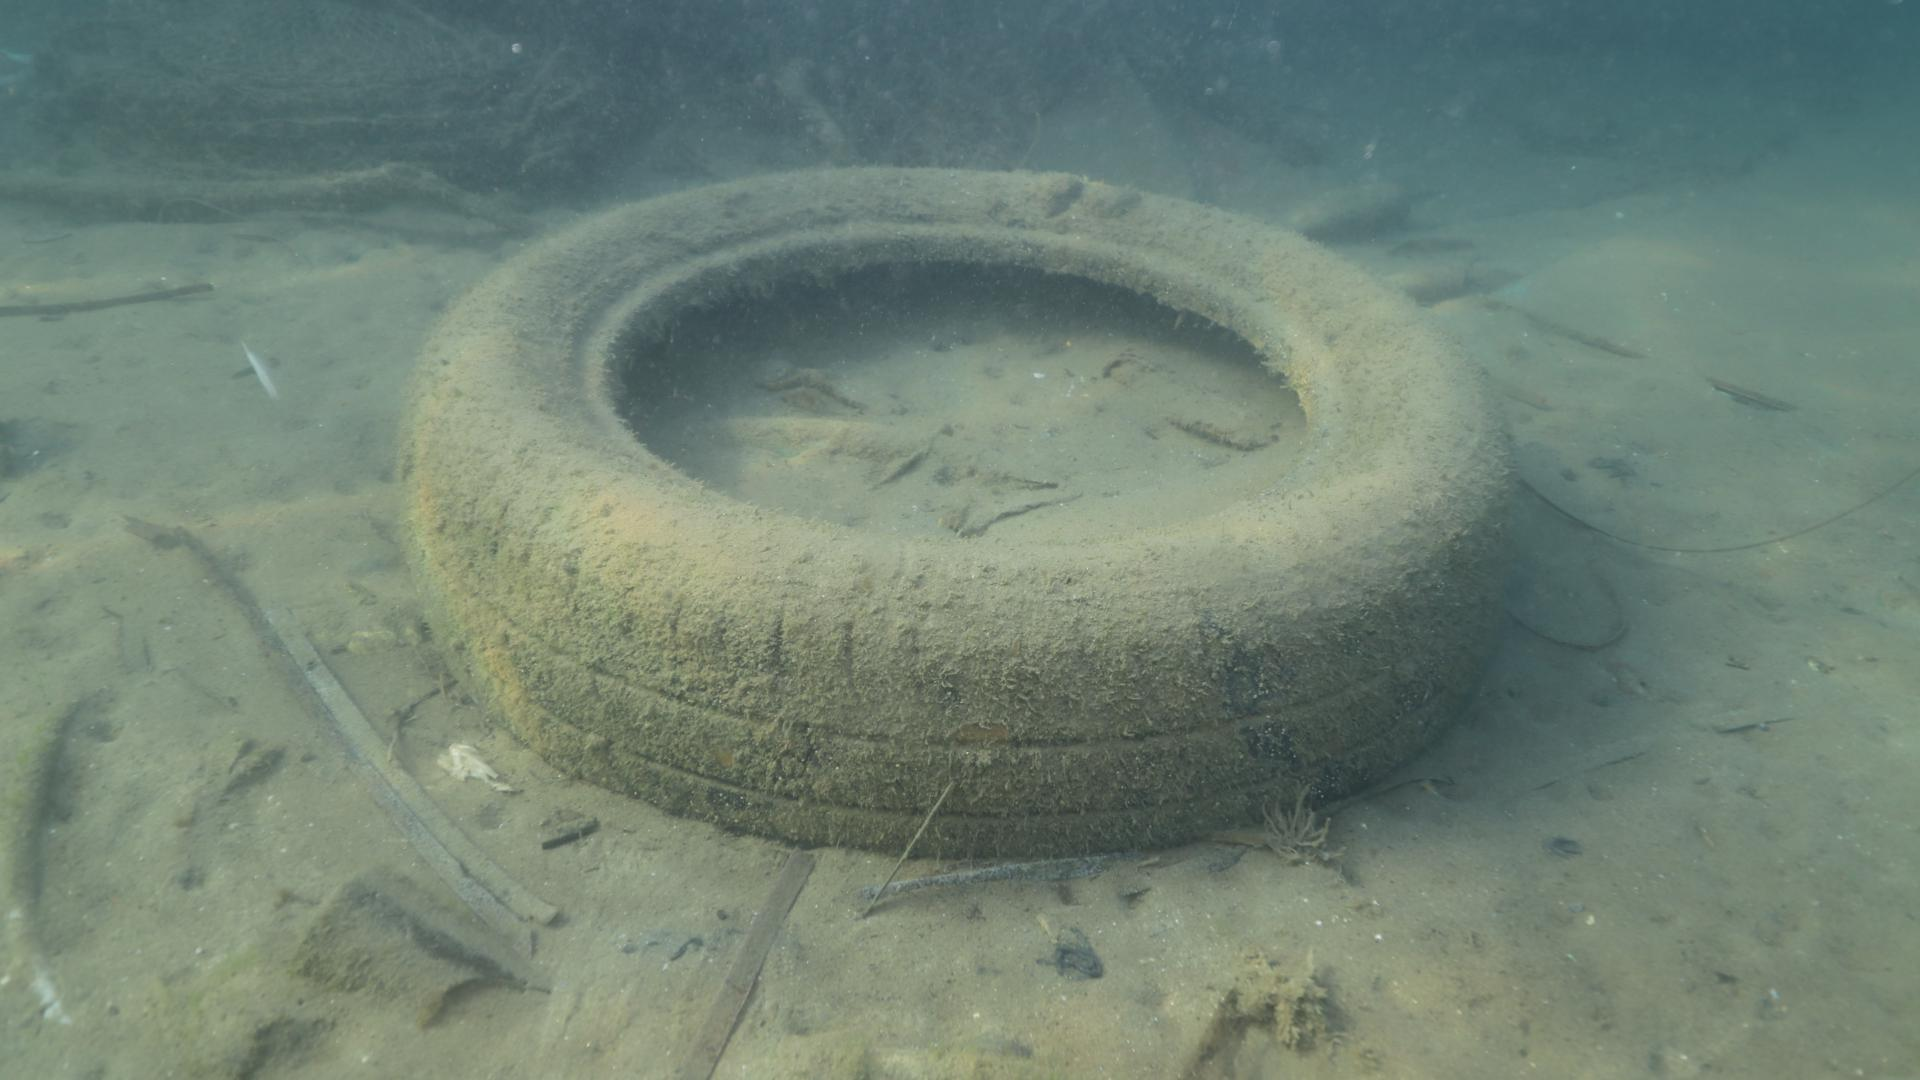tire: (400, 162, 1520, 852)
